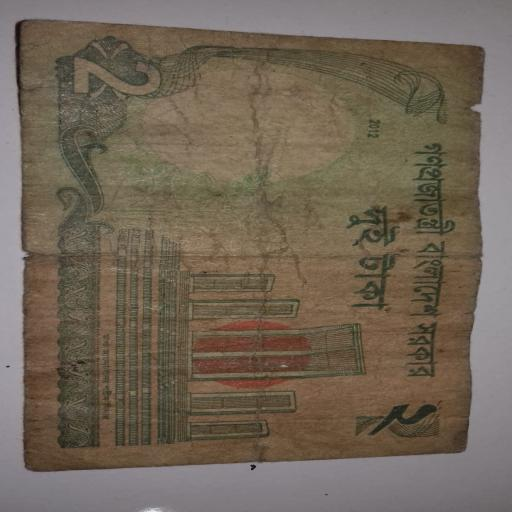2taka: (25, 18, 483, 469)
